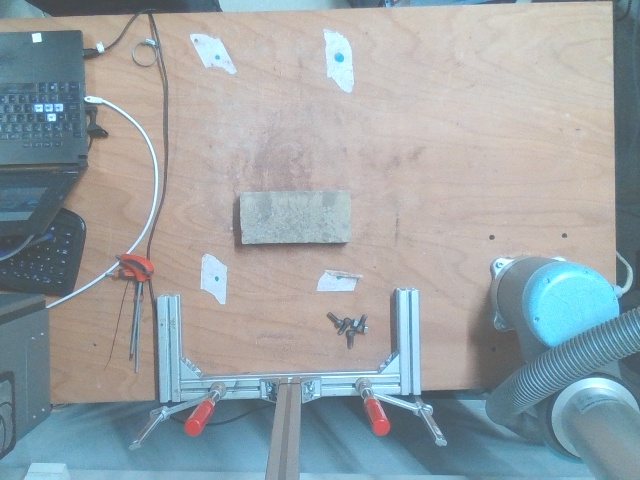brick: (238, 189, 349, 243)
